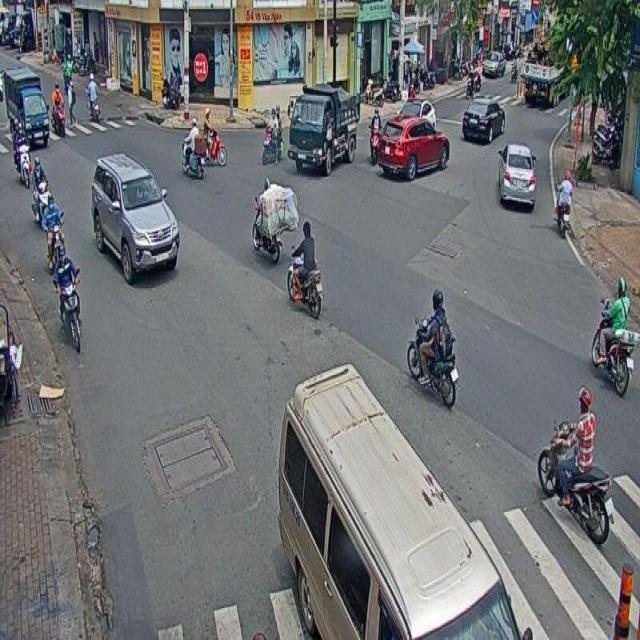car: (89, 152, 178, 285), (378, 115, 450, 182), (497, 142, 536, 208)
motorcycle: (537, 386, 614, 546), (406, 288, 459, 408), (590, 272, 640, 398), (286, 220, 324, 318), (52, 242, 82, 354), (252, 177, 282, 262), (41, 192, 65, 271), (202, 107, 228, 166), (182, 116, 204, 180), (13, 116, 31, 187), (262, 102, 282, 165), (31, 156, 50, 222), (556, 169, 573, 238), (368, 106, 382, 164)
truck: (278, 364, 522, 640), (287, 82, 360, 174)
